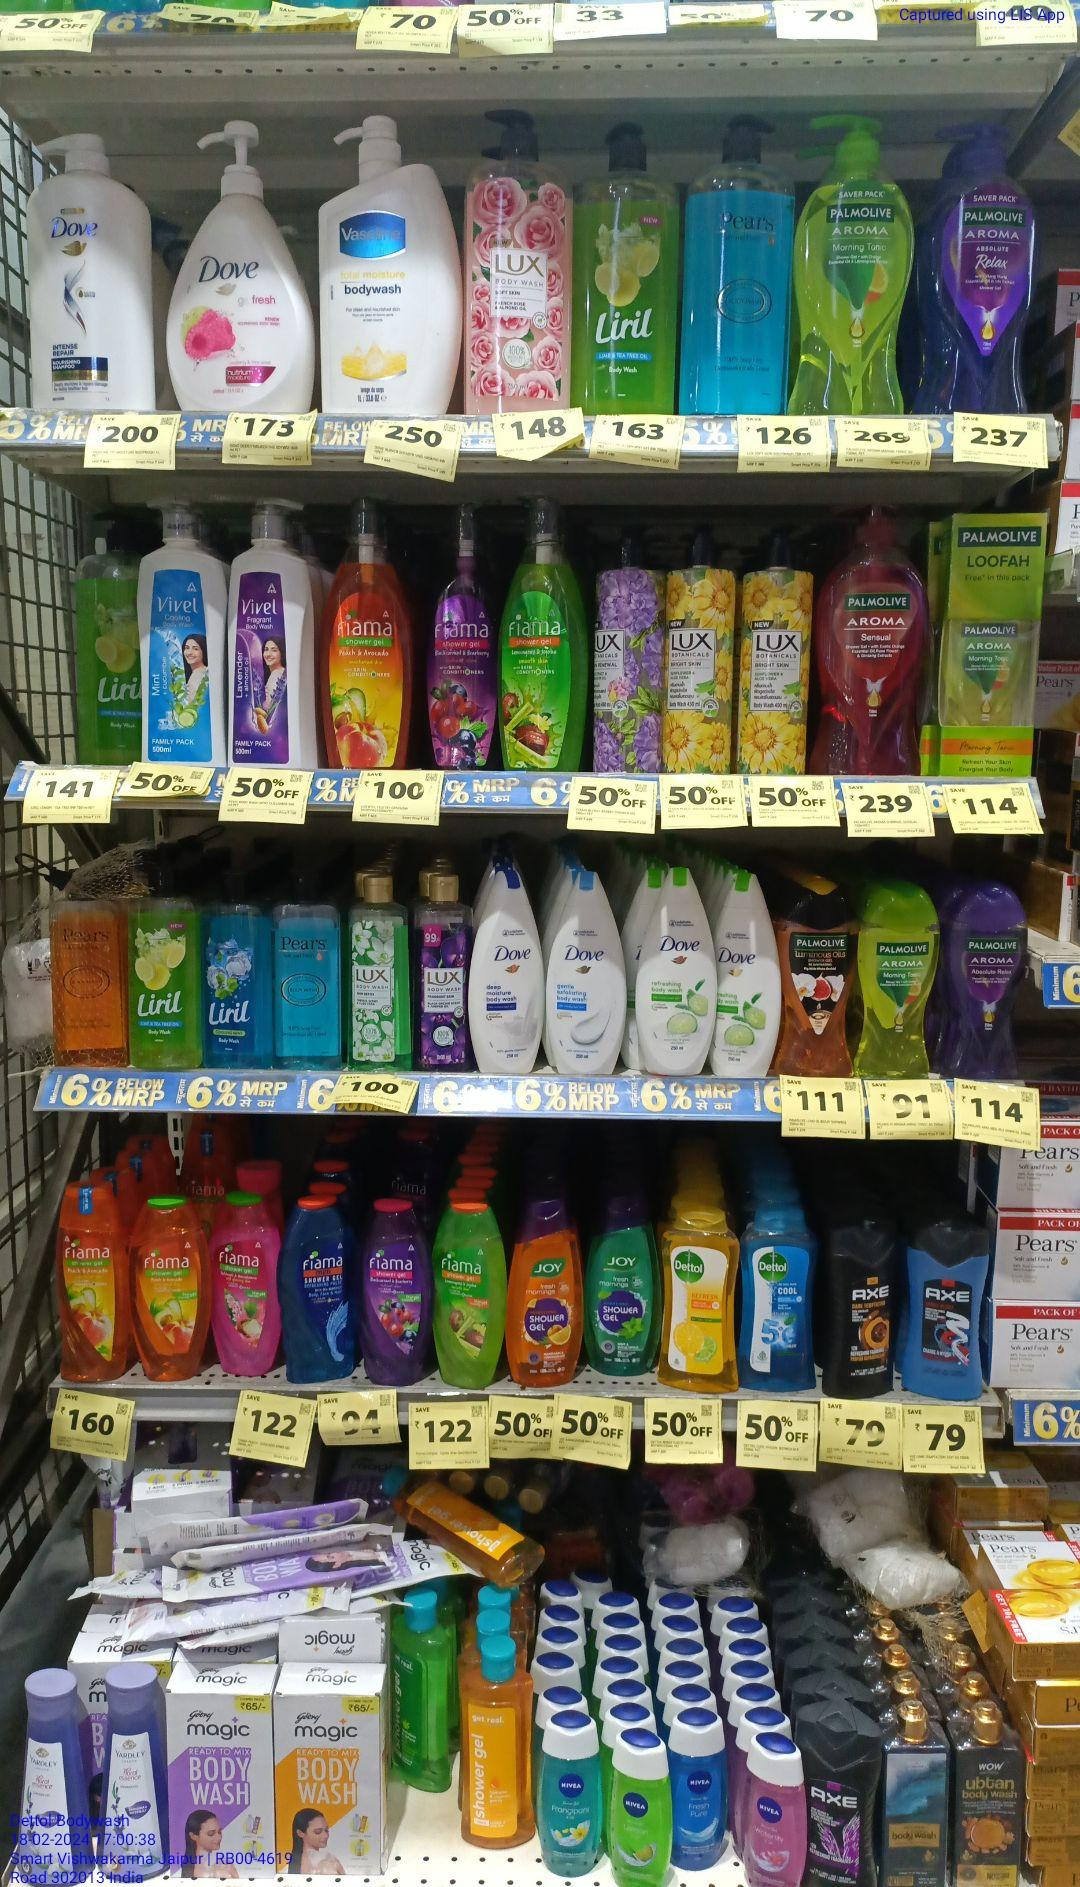Dettol_Bodywash_Cool: (743, 1204, 817, 1389)
Dettol_Bodywash_Refresh: (657, 1201, 739, 1393)
Dove_Deep_Moisture_Body_Wash_250ML: (471, 870, 543, 1076)
Dove_Gentle_Exfoliating_Body_Wash_250ML: (547, 863, 624, 1074)
Dove_Refreshing_Body_Wash_250ML: (637, 867, 714, 1074), (714, 867, 775, 1080)
Fiama_Shower_Gel_Lemongrass_and_Jojoba_250ML: (433, 1200, 504, 1387)
Fiama_Shower_Gel_Patchouli_and_Macadamia_250ML: (211, 1188, 280, 1371)
Fiama_Shower_Gel_Peach_and_Avocado_250ML: (124, 1195, 207, 1378)
Joy_Shower_Gel_Mandarin_and_Lemongrass_250ML: (511, 1204, 582, 1385)
Joy_Shower_Gel_Mint_and_Eucalyptus_250ML: (583, 1195, 656, 1374)
Liril_Cooling_Mint_Body_Wash_250ML: (205, 877, 274, 1073)
Liril_Lime_and_Tea_Tree_Oil_Body_Wash_250ML: (124, 881, 202, 1072)
Lux_Black_Orchid_Scent_and_Juniper_Oil_Body_Wash_245ML: (417, 867, 468, 1071)
Lux_Body_Wash_Skin_Detox_Freesia_Scent_and_Alove_Vera_245ML: (345, 874, 414, 1069)
Palmolive_Aroma_Morning_Tonic_Shower_Gel_250ML: (941, 886, 1026, 1080), (858, 880, 932, 1081)
Palmolive_Luminous_Oils_With_White_Orchid_Shower_Gel_250ML: (779, 875, 856, 1081)
Pears_Pure_Glycerin_and_Mint_Extracts_Body_Wash_250ML: (275, 874, 344, 1069)
